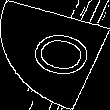O_E: (15, 26, 95, 84)
